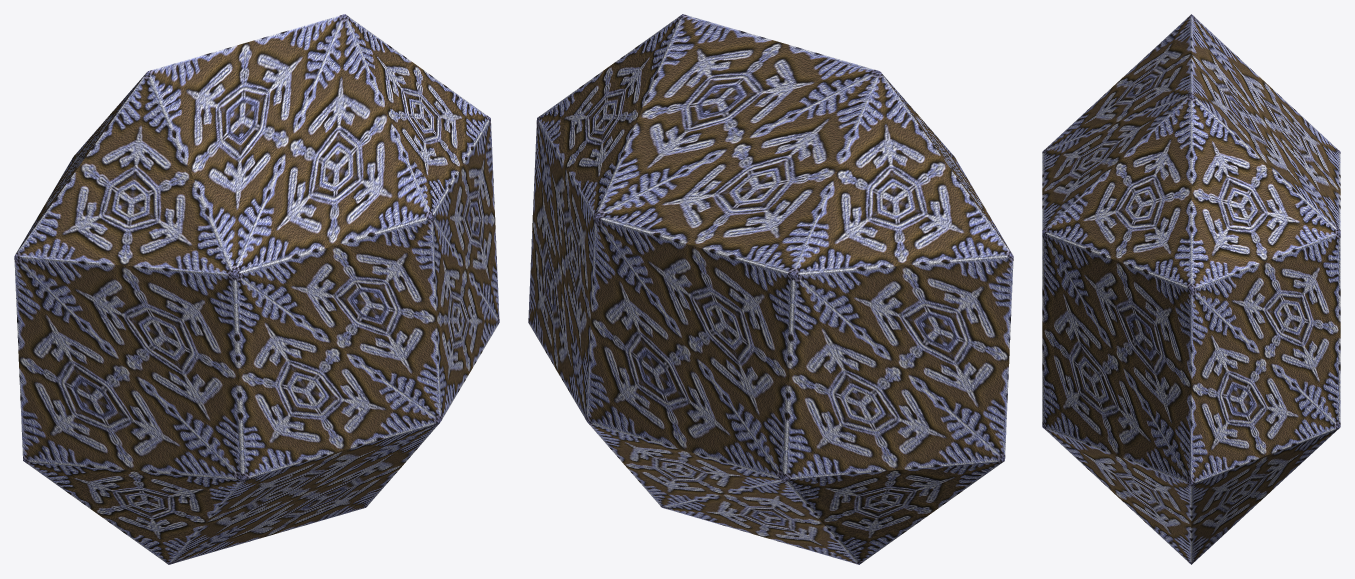
File: SquareOrthobicupola.obj
3 renders of one model, left to right at view 1: azimuth 30°, elevation 25°; view 2: azimuth 150°, elevation 25°; view 3: azimuth 270°, elevation 25°, orthographic. The views are drawn at different scales.
Size of the model in its own units: 2.11 by 2.11 by 1.22.
1 material, 1 textured.
